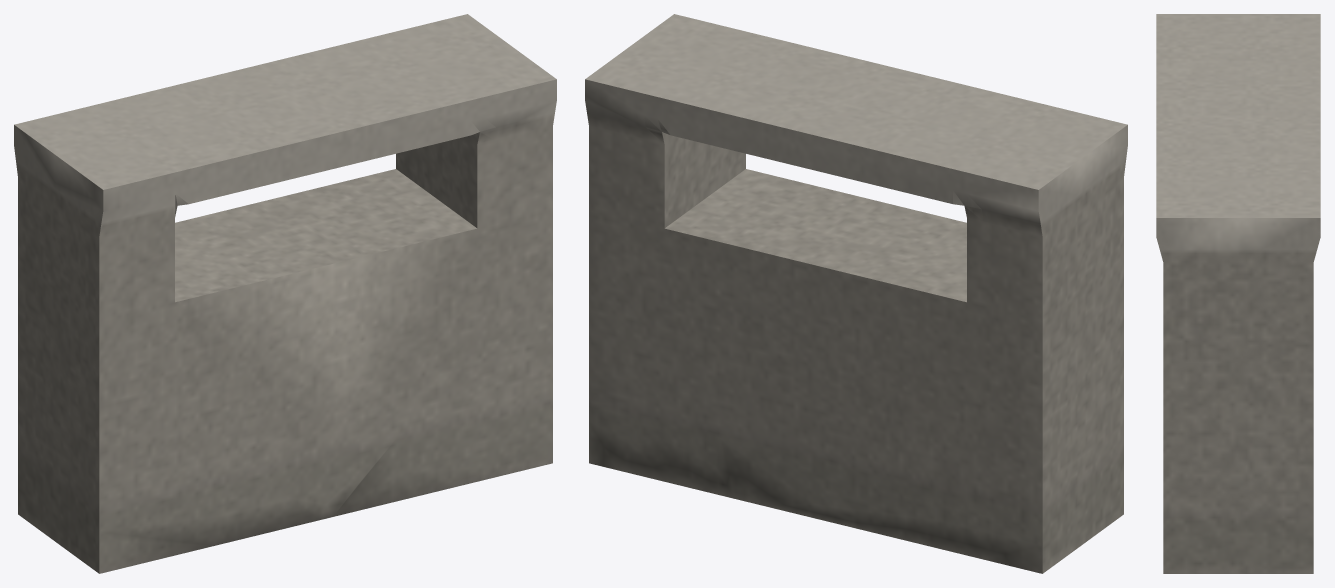
The model's file is tuong_bai_tam.mid.glb.
3 renders of one model, left to right at view 1: azimuth 30°, elevation 25°; view 2: azimuth 150°, elevation 25°; view 3: azimuth 270°, elevation 25°, orthographic. The views are drawn at different scales.
Visible parts, largest first — view 1: drawing; view 2: drawing; view 3: drawing.
Boxes of the visible parts, box(x1,y1,x2,y2) form: drawing: box(14, 14, 556, 573); drawing: box(585, 14, 1127, 573); drawing: box(1156, 14, 1320, 573).
Bounding box in the file's own units: 1.35 × 1.1 × 0.46.
1 material, 1 textured.
